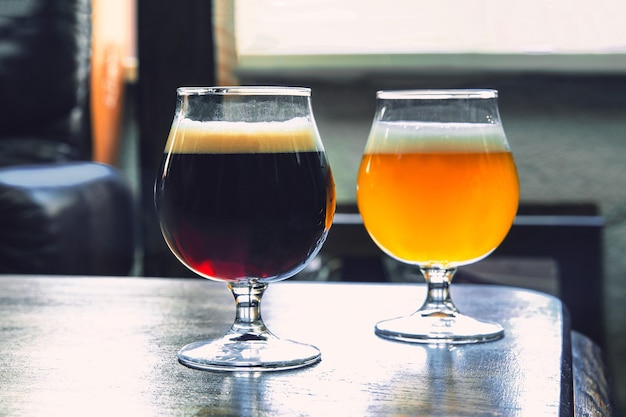alcohol: (154, 88, 339, 371), (355, 89, 519, 342)
